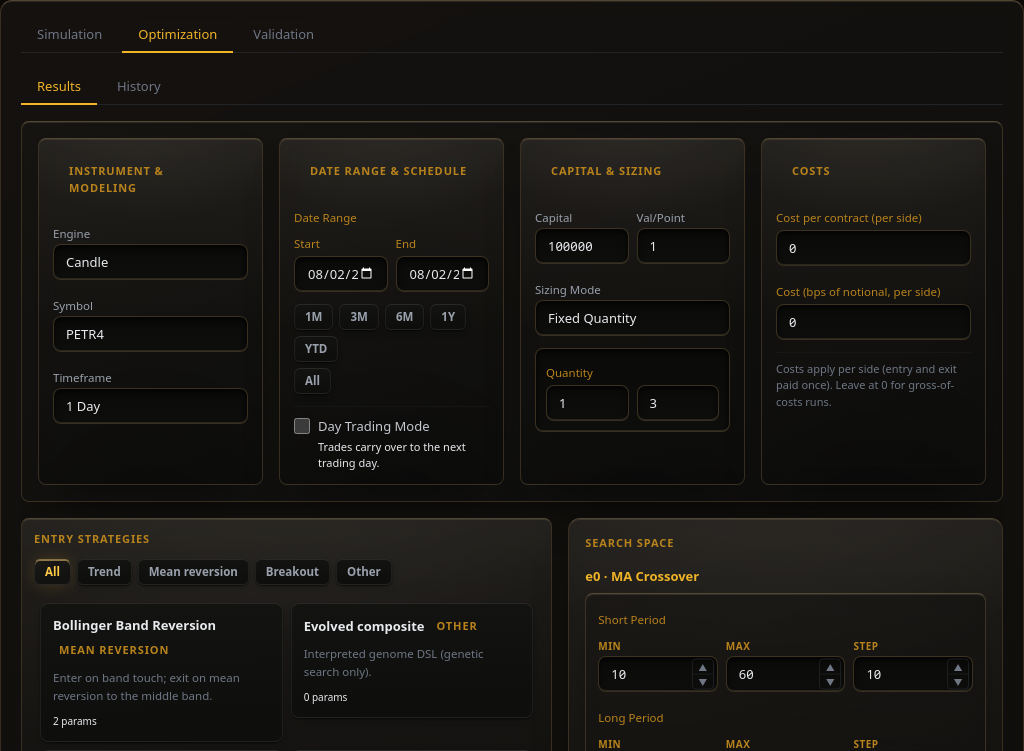
it: BacktestsWorkspace — optimization focus swap › preserves optimization state when switching to Simulation and back
This screenshot has width=1024, height=751.
Replace the text in the field with placeholder "e.g. PETR4" with "VALE3" at (150, 334), box left=53, top=316, right=248, bottom=352
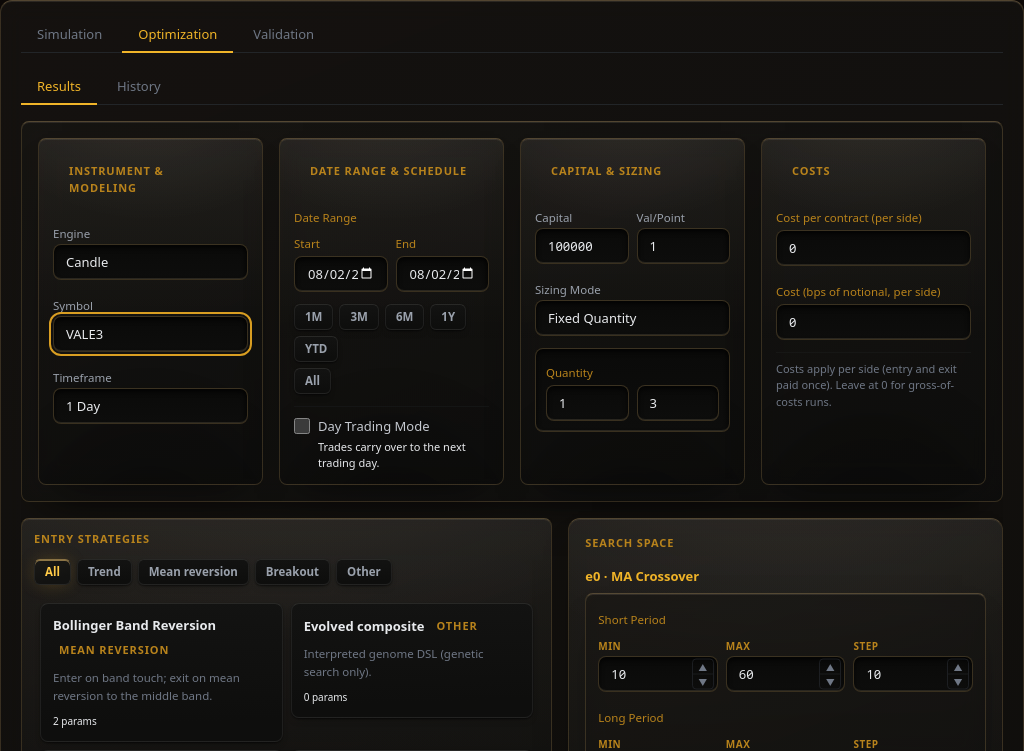
Click the button "Simulation" at (70, 35), box left=21, top=17, right=118, bottom=53
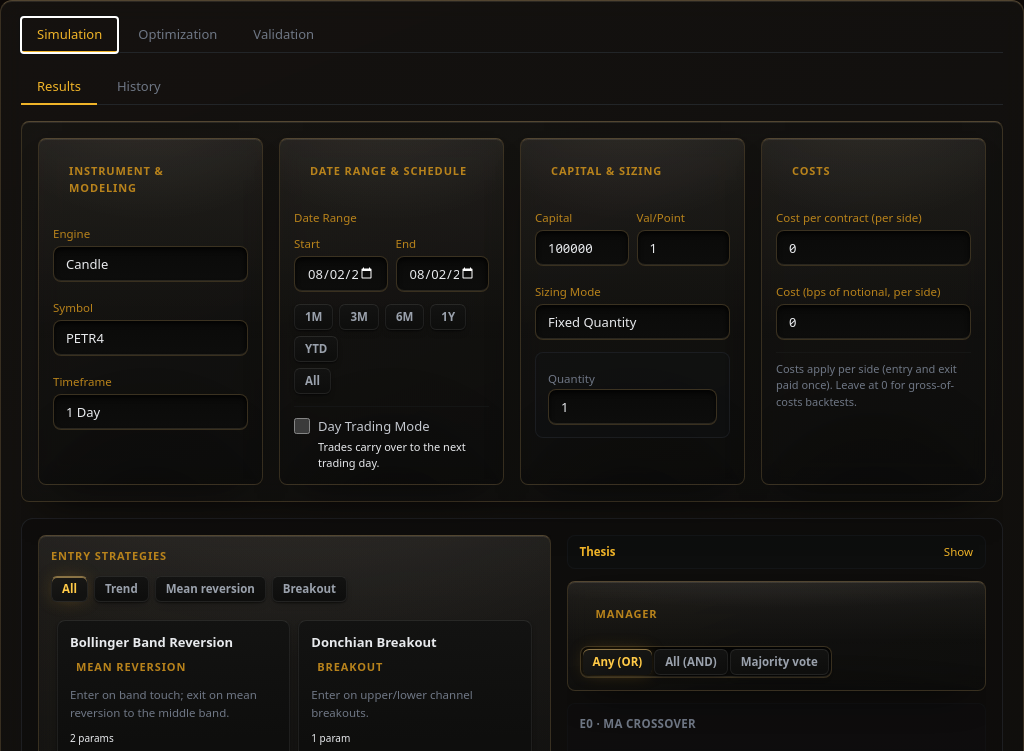
Click the button "Optimization" at (178, 35), box left=122, top=17, right=233, bottom=53
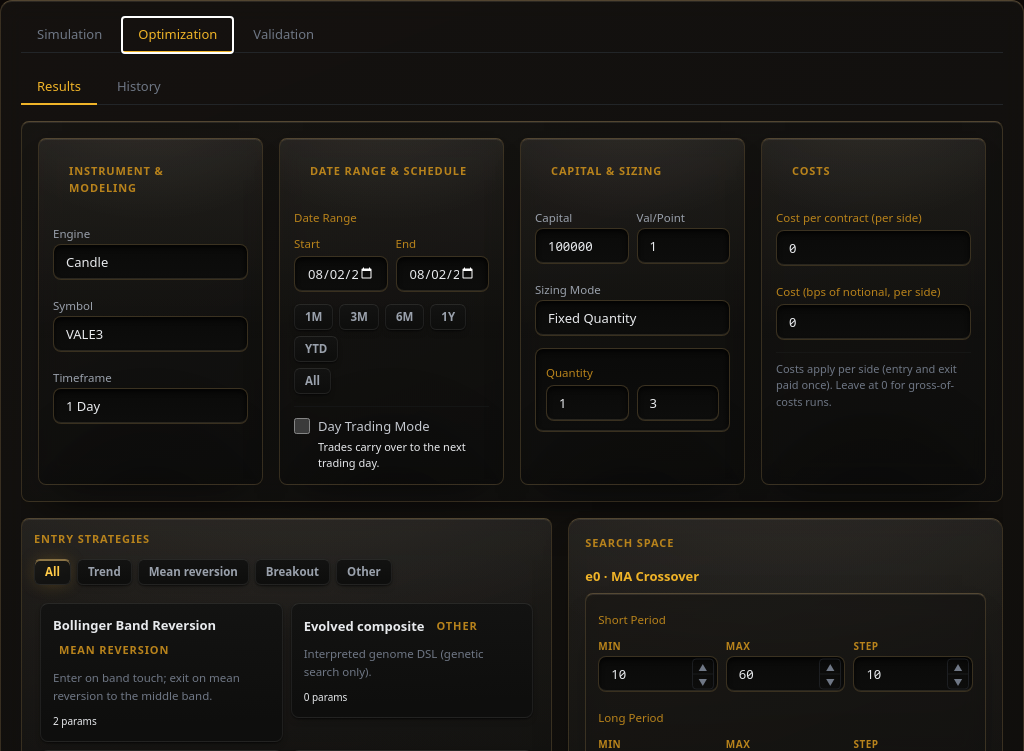
Now the field with placeholder "e.g. PETR4" holds "VALE3", box left=53, top=316, right=248, bottom=352
